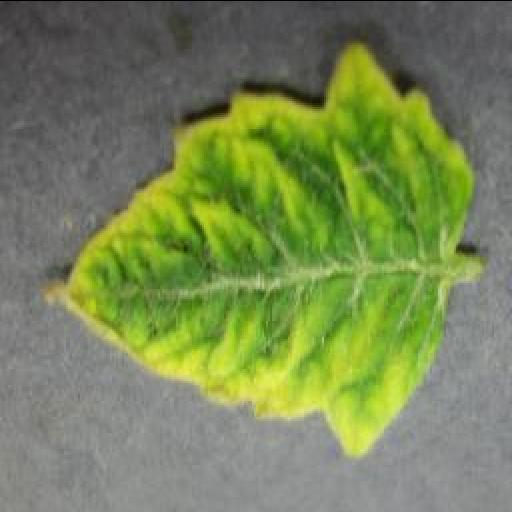disease_tomato: (42, 38, 476, 456)
